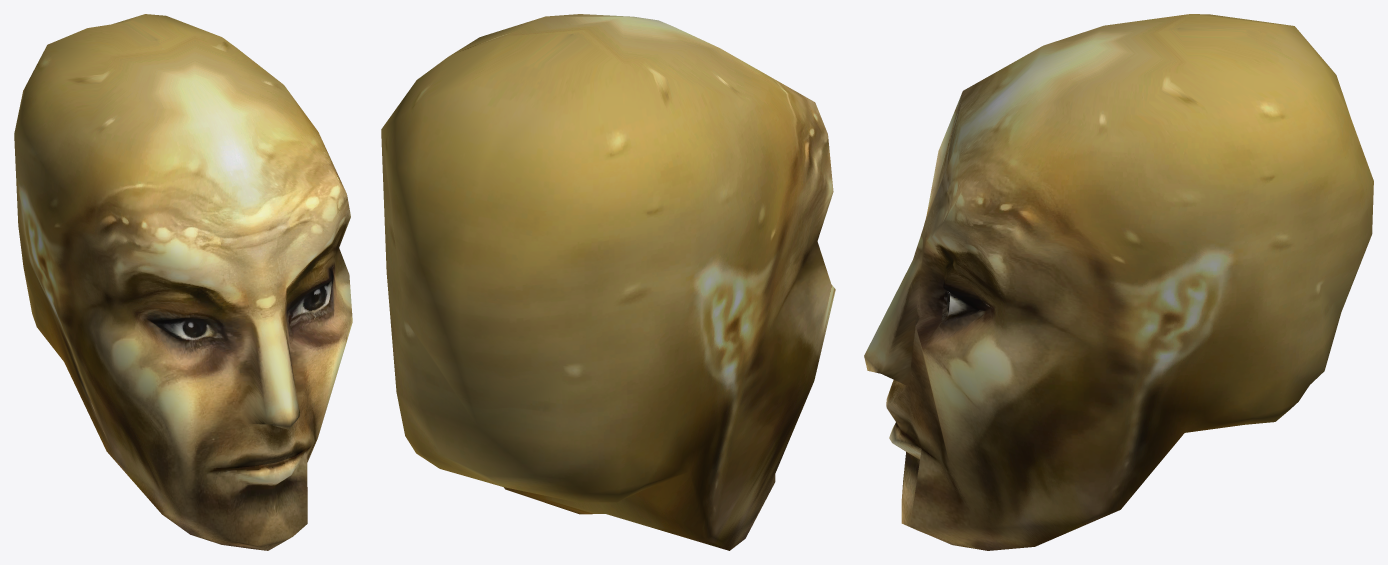
Rendered from b_n_high elf_m_head_01.glb.
The picture shows the model from 3 angles, left to right: view 1: azimuth 30°, elevation 25°; view 2: azimuth 150°, elevation 25°; view 3: azimuth 270°, elevation 25°; orthographic projection. The views are drawn at different scales.
Visible parts, largest first — view 1: Tri B_N_High Elf_M_Head_02; view 2: Tri B_N_High Elf_M_Head_02; view 3: Tri B_N_High Elf_M_Head_02.
Boxes of the visible parts, x1=… form: Tri B_N_High Elf_M_Head_02: x1=14, y1=14, x2=352, y2=550; Tri B_N_High Elf_M_Head_02: x1=381, y1=14, x2=835, y2=550; Tri B_N_High Elf_M_Head_02: x1=864, y1=14, x2=1373, y2=550.
Bounding box in the file's own units: 0.0942 × 0.1534 × 0.1412.
Materials: 1 (1 with a texture image).
